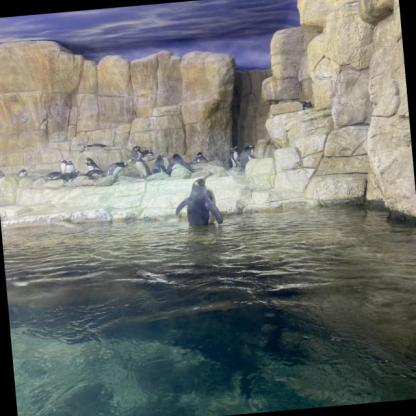penguin: (173, 172, 225, 231), (100, 161, 126, 182), (240, 143, 258, 171), (151, 152, 168, 178), (125, 142, 145, 164), (82, 158, 100, 182), (63, 160, 79, 178), (192, 150, 208, 167), (56, 160, 68, 176), (172, 152, 183, 166), (0, 162, 6, 182), (18, 170, 29, 180)
